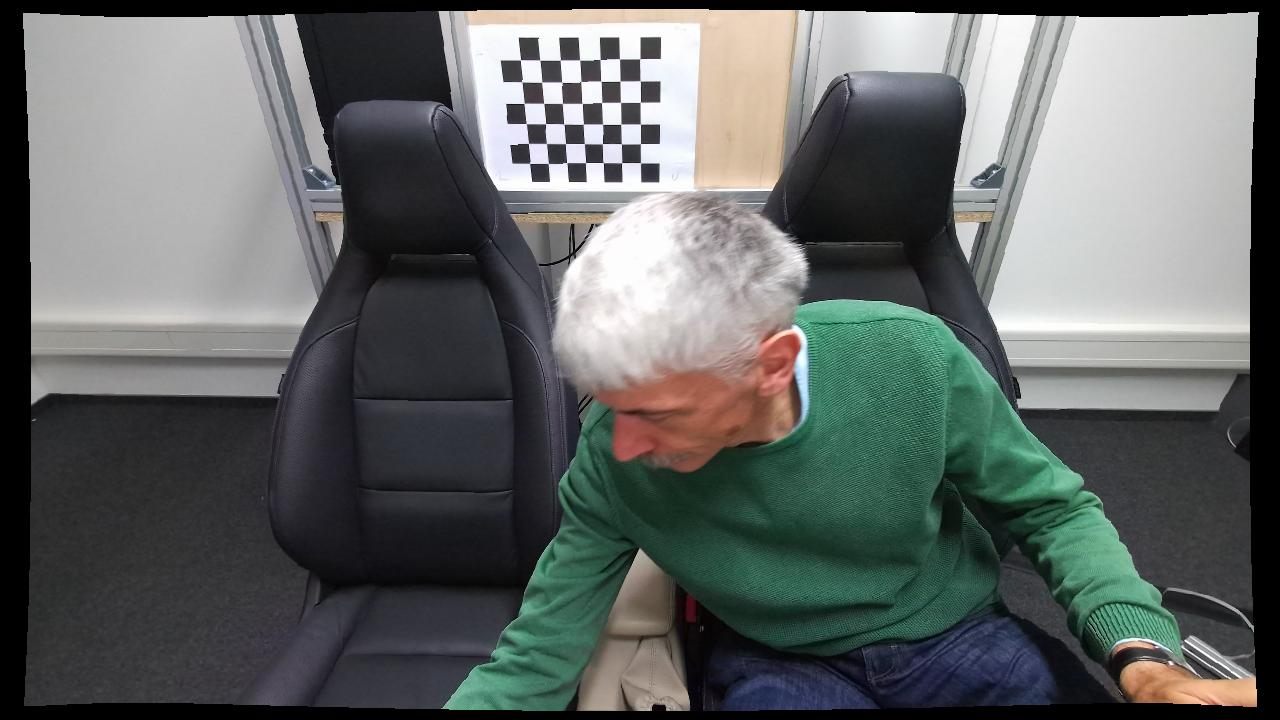Distracted: (441, 189, 1032, 709)
